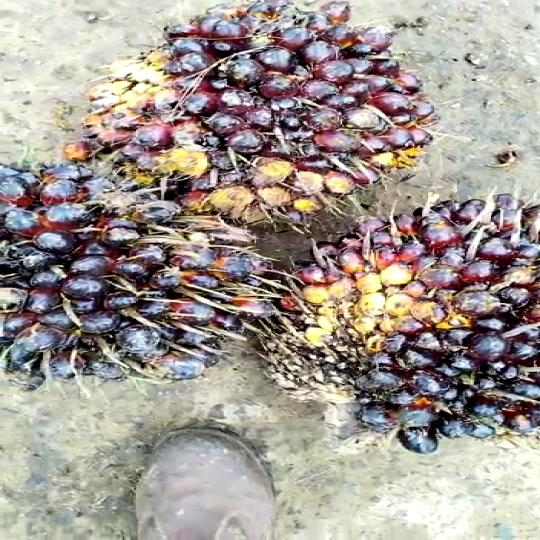mentah: (75, 2, 448, 221), (270, 183, 540, 451), (0, 155, 264, 383)
